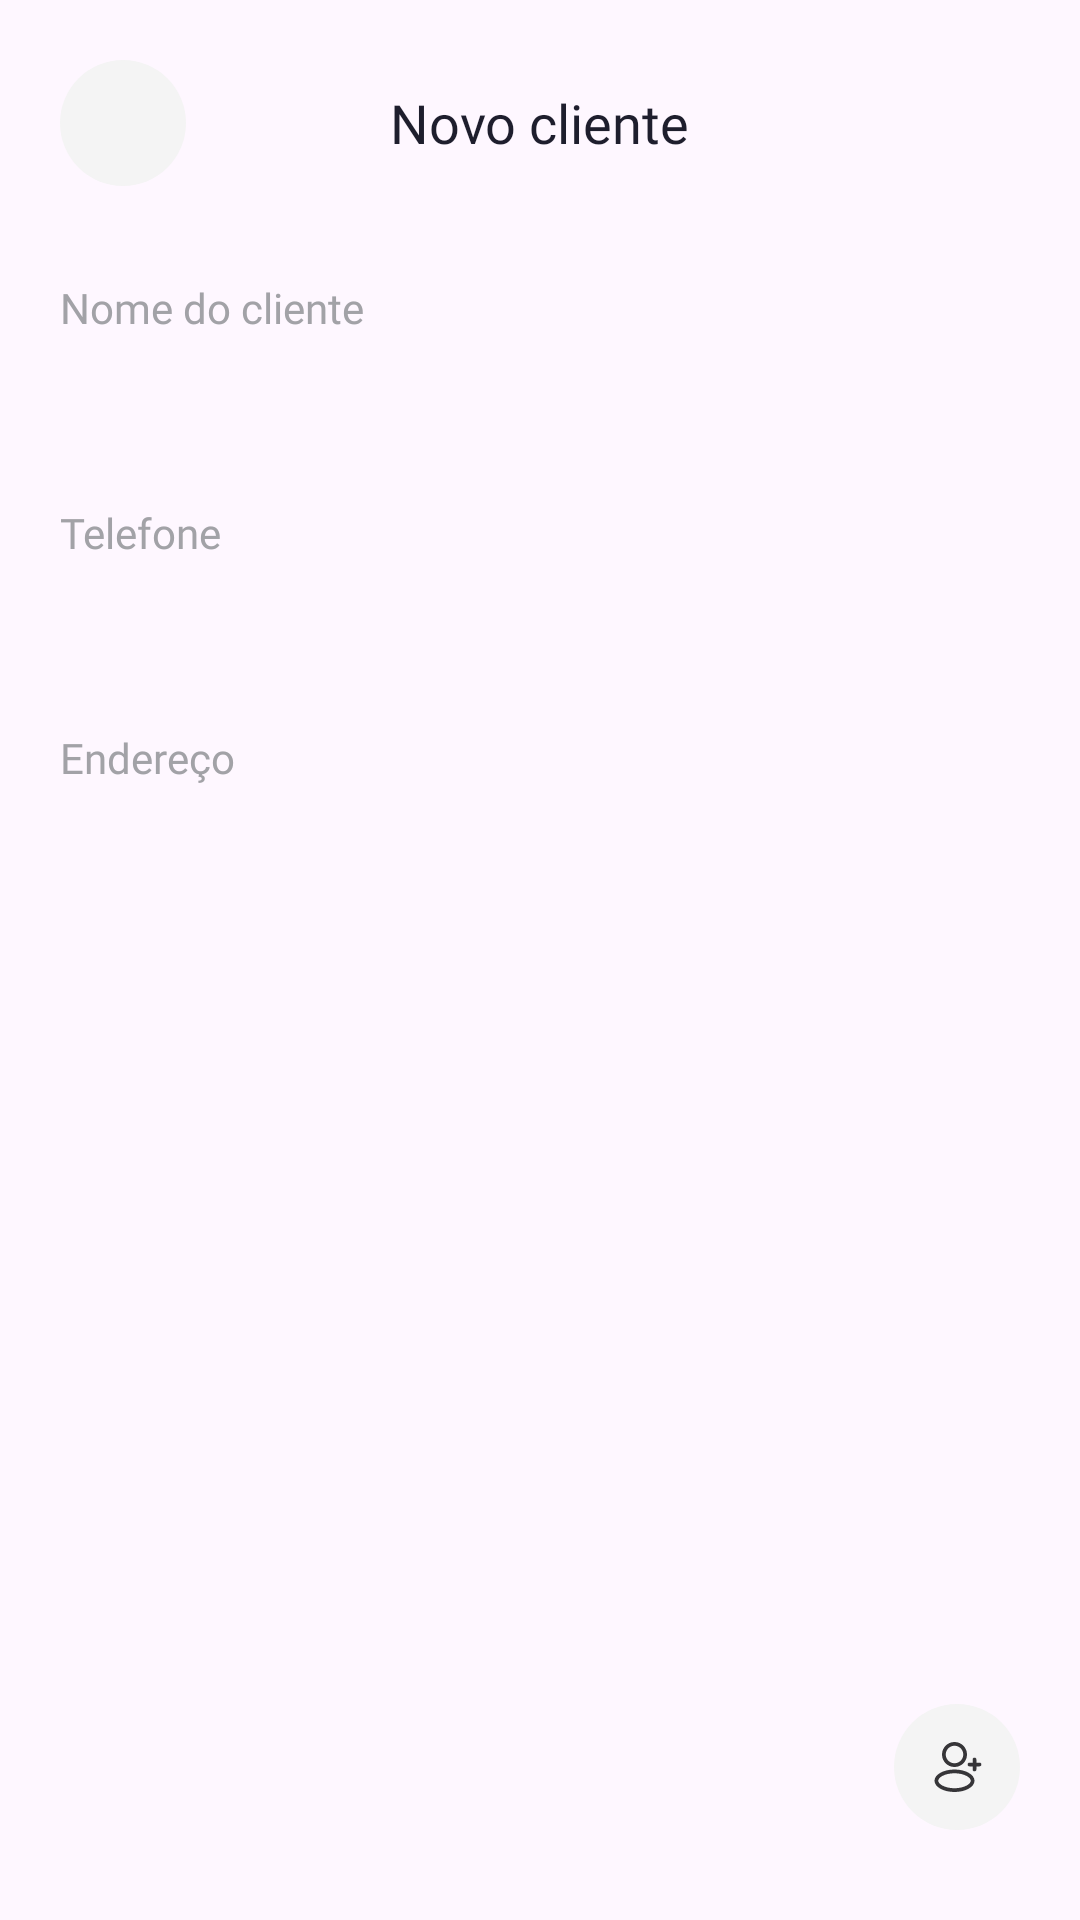

Icons on this 1080px x 1920px Android screen, each with its box as (x1, y1, x2, y2):
user add: (934, 1742, 982, 1792)
